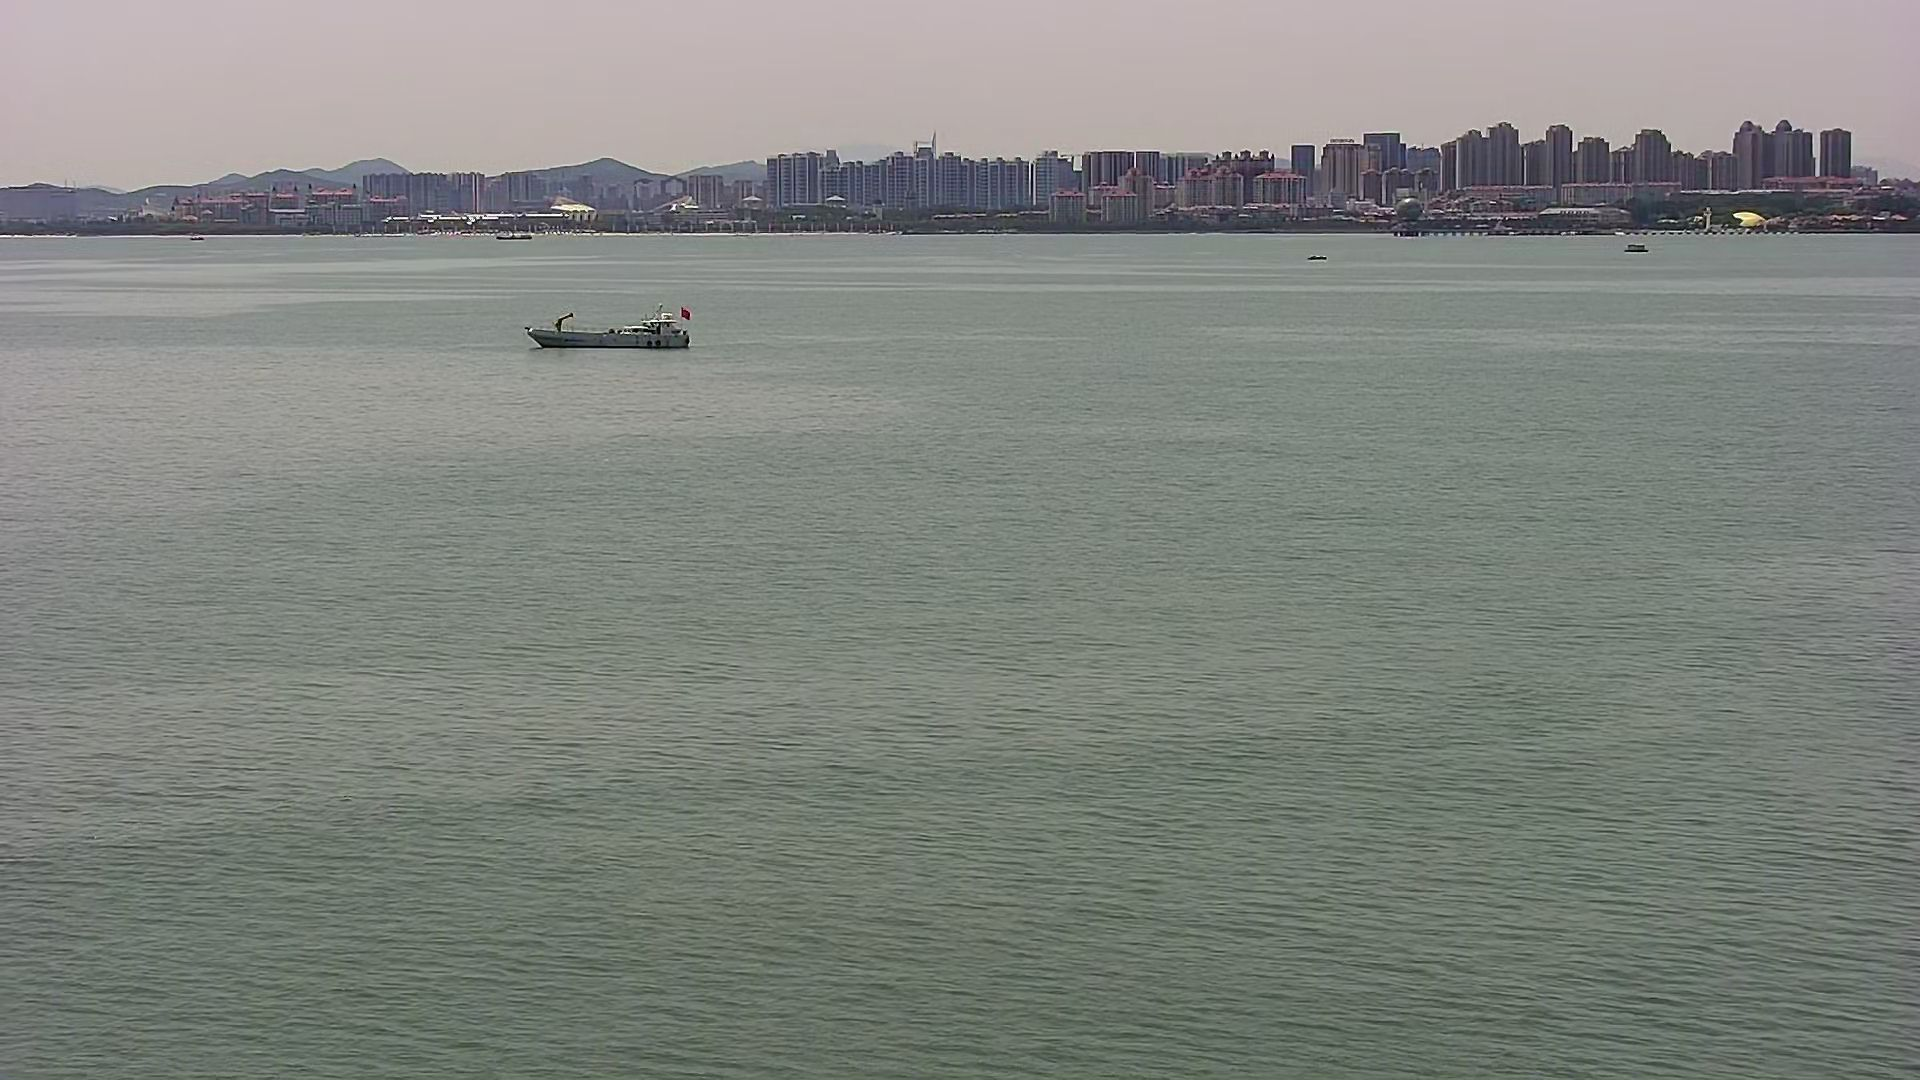ship: (522, 301, 695, 353)
